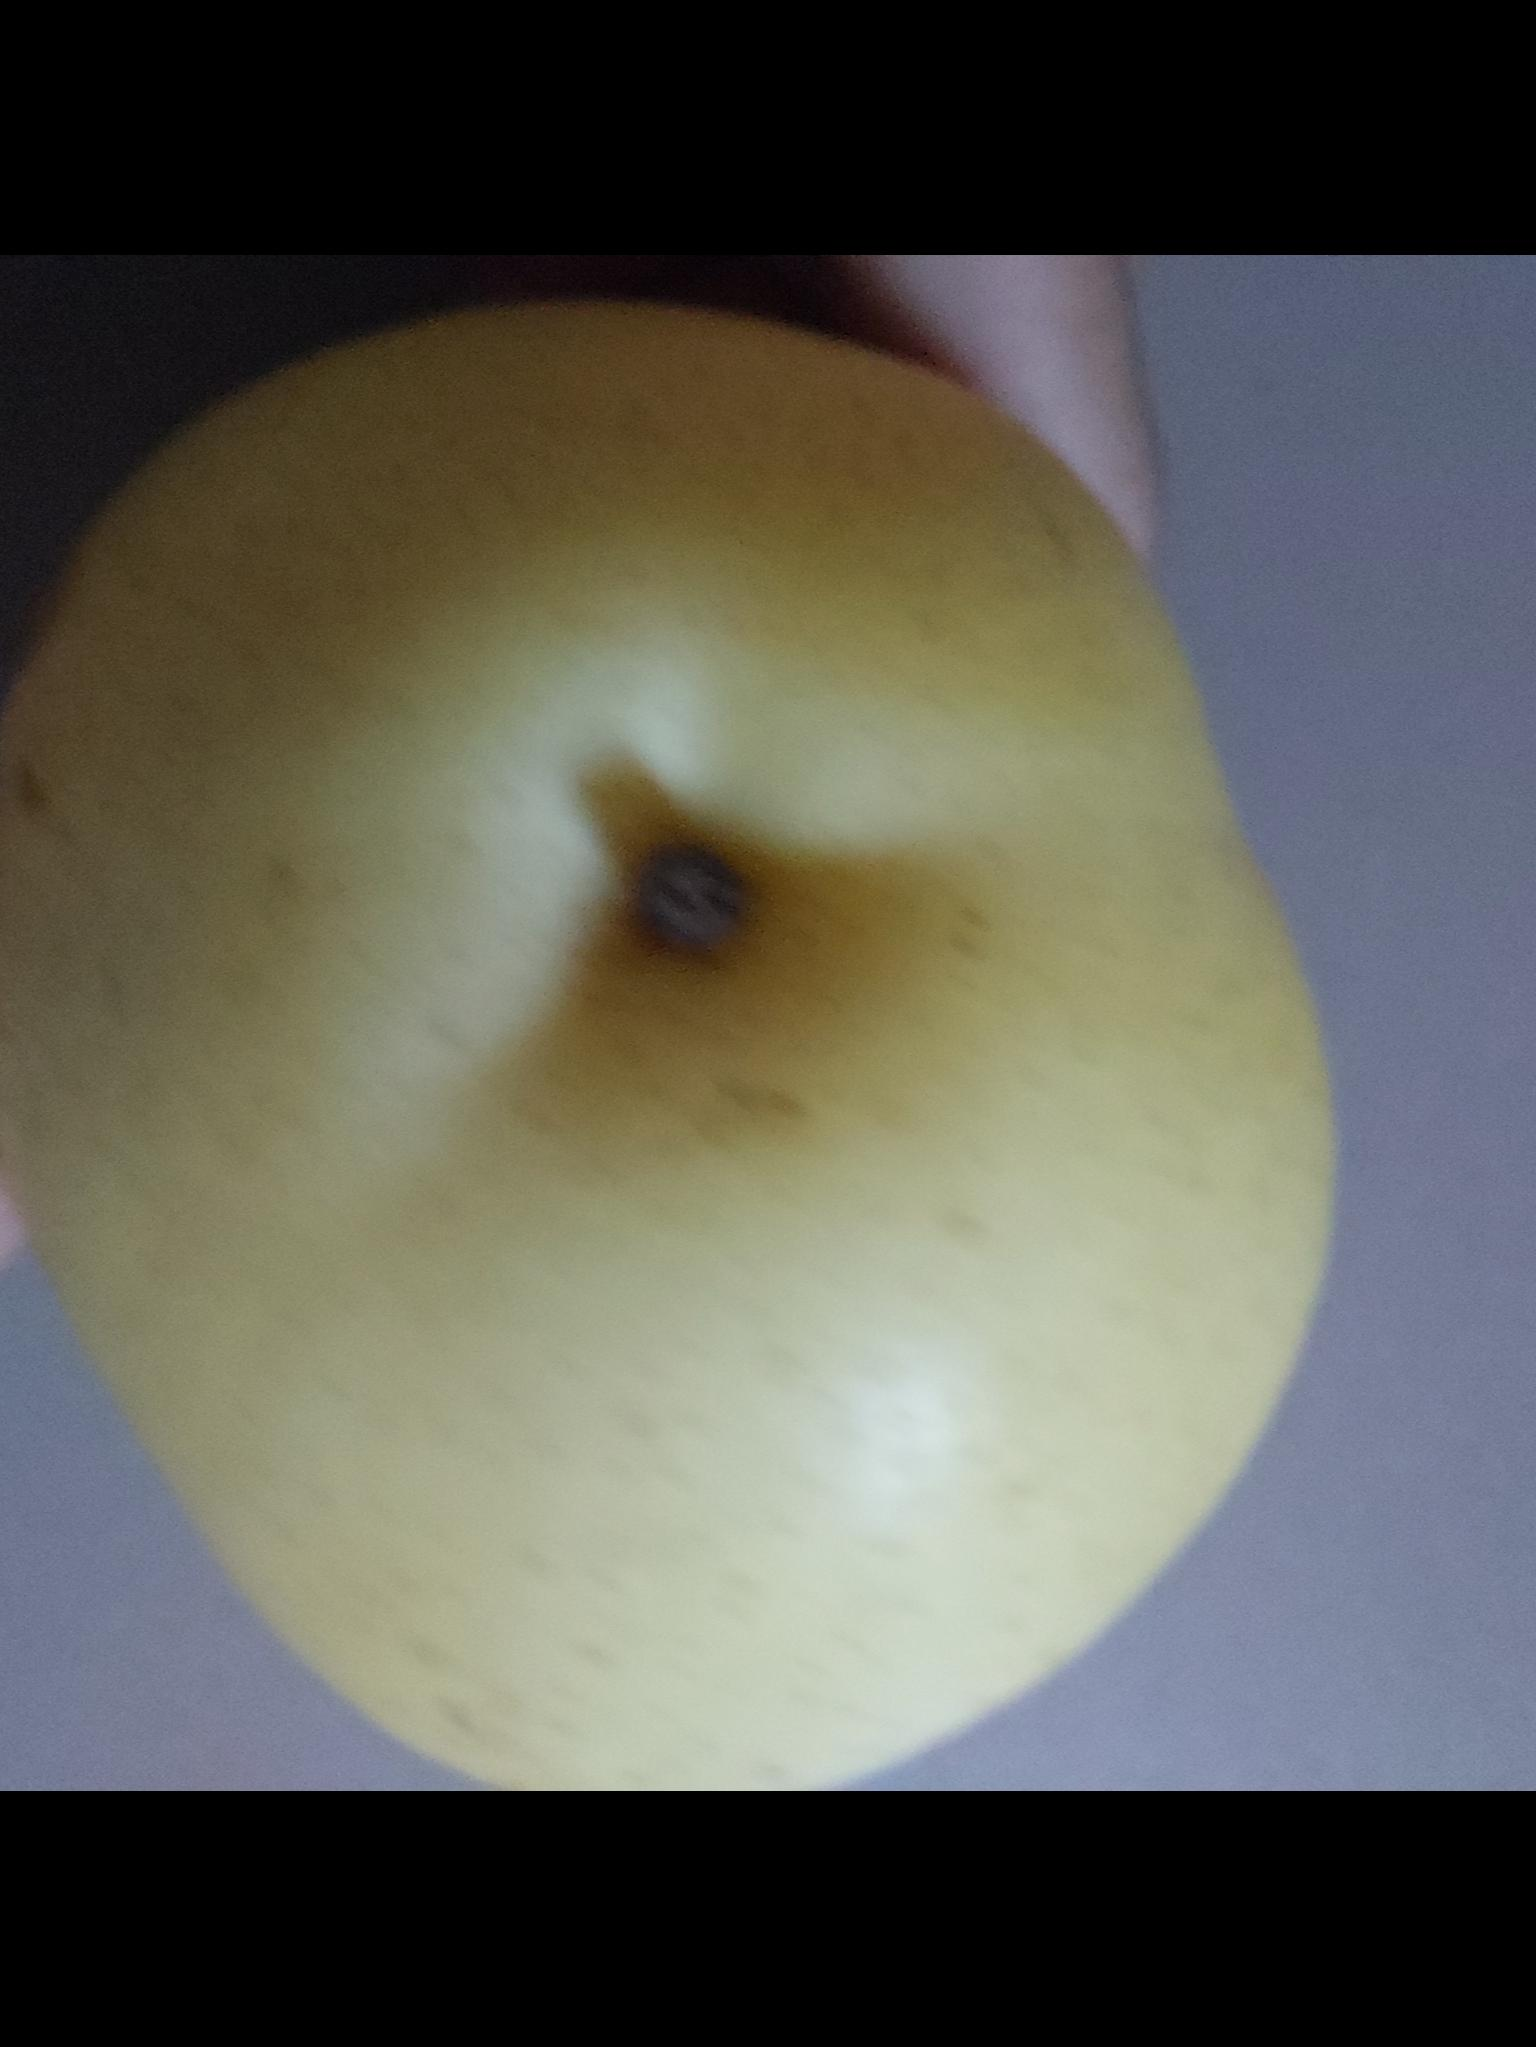Good Pear: (0, 307, 1341, 1792)
